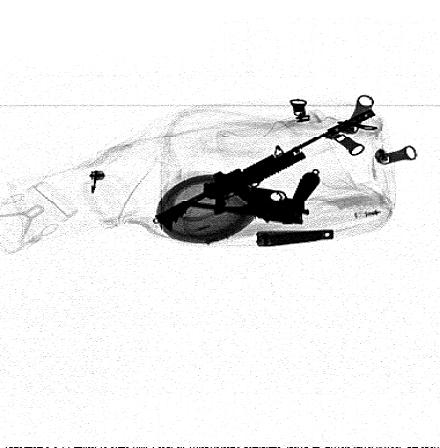Gun: (155, 108, 378, 233), (181, 171, 322, 225)
